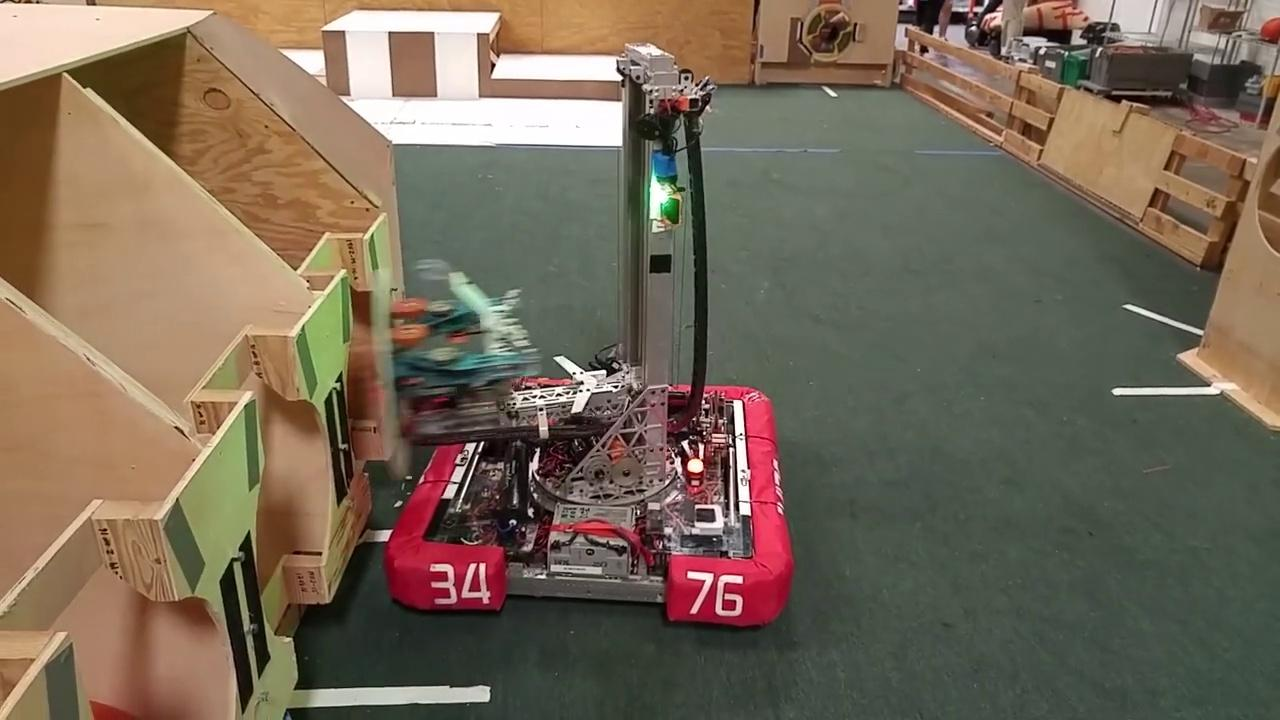robot: (376, 41, 804, 640)
